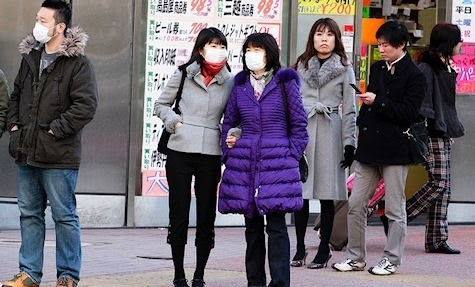face_no_mask: (374, 22, 409, 64), (309, 17, 339, 57)
face_with_mask: (31, 1, 73, 46), (195, 26, 229, 74), (239, 31, 277, 73)
